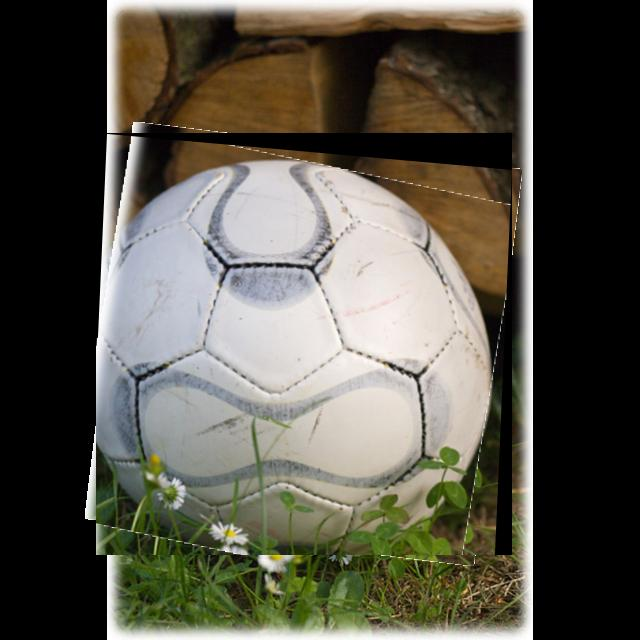Football: (96, 133, 512, 555)
